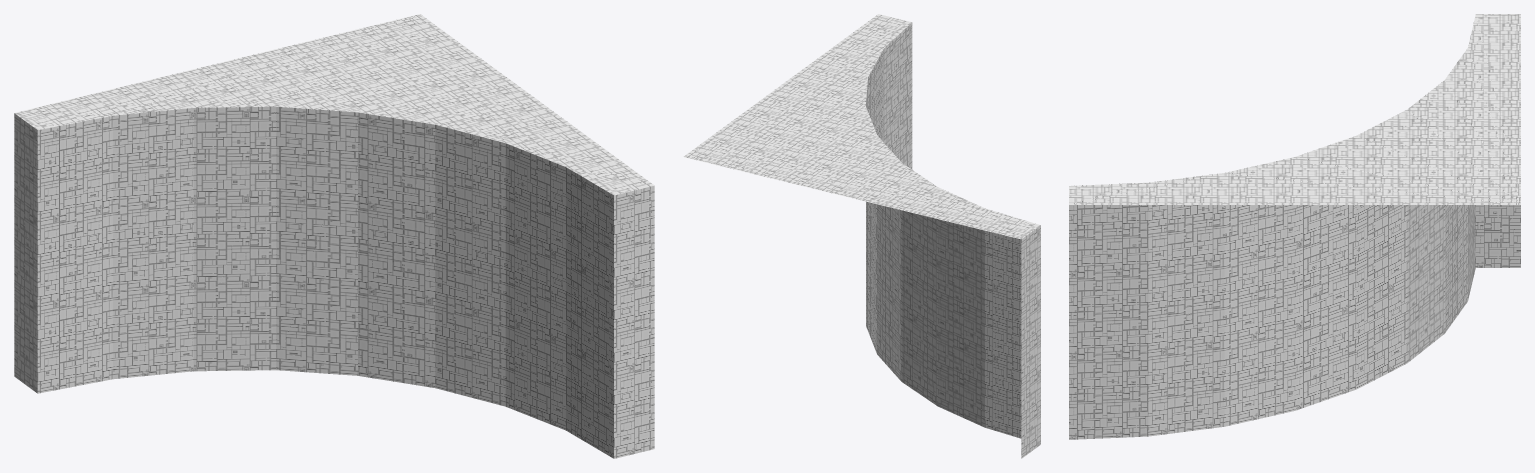
File: PanelWallCornerRound.fbx
The picture shows the model from 3 angles, left to right: view 1: azimuth 30°, elevation 25°; view 2: azimuth 150°, elevation 25°; view 3: azimuth 270°, elevation 25°; orthographic projection. The views are drawn at different scales.
Parts seen in each view (by area): view 1: Panel Corner Rounded; view 2: Panel Corner Rounded; view 3: Panel Corner Rounded.
Boxes of the visible parts, x1,y1,x2,y2 form: Panel Corner Rounded: [14, 14, 654, 458]; Panel Corner Rounded: [683, 14, 1040, 458]; Panel Corner Rounded: [1069, 14, 1520, 439].
Bounding box in the file's own units: 1000 × 620 × 1000.
Materials: 1 (1 with a texture image).
